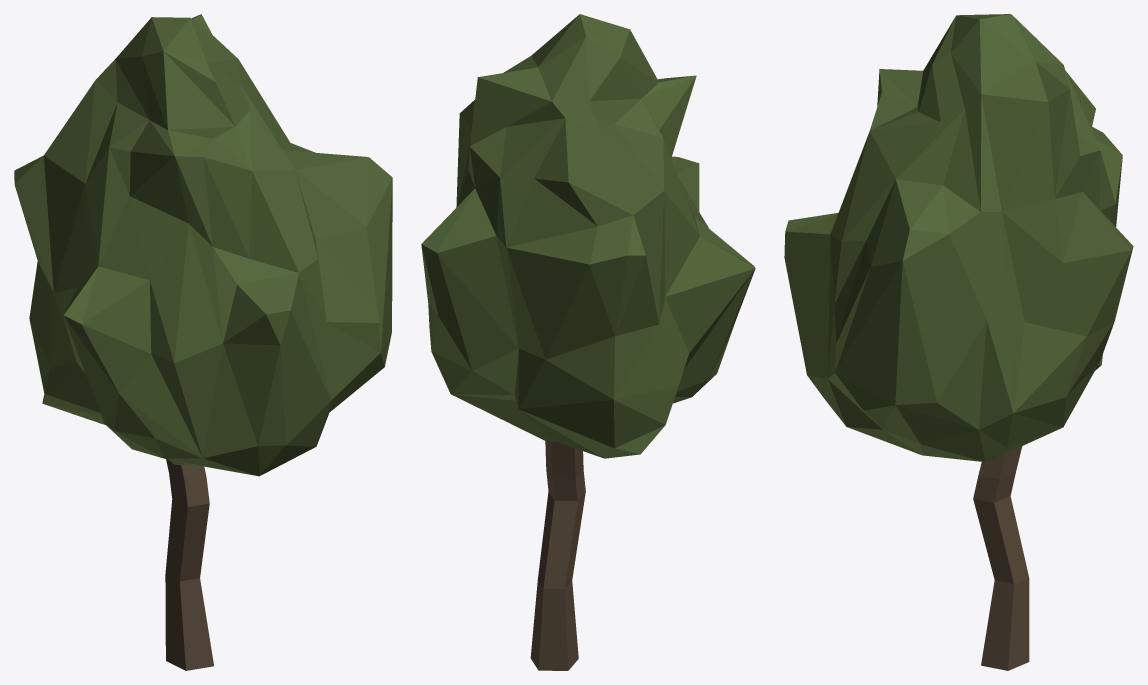
File: tree_072.fbx
3 views of the same model, side by side, from view 1: azimuth 30°, elevation 25°; view 2: azimuth 150°, elevation 25°; view 3: azimuth 270°, elevation 25° (orthographic). The views are drawn at different scales.
Visible parts, largest first — view 1: tree_072; view 2: tree_072; view 3: tree_072.
Part boxes in pixels (<box>): tree_072: <box>14,14,392,670</box>; tree_072: <box>421,14,755,670</box>; tree_072: <box>784,14,1133,670</box>.
Bounding box in the file's own units: 0.7925 × 1.57 × 0.7835.
Materials: 1 (1 with a texture image).
